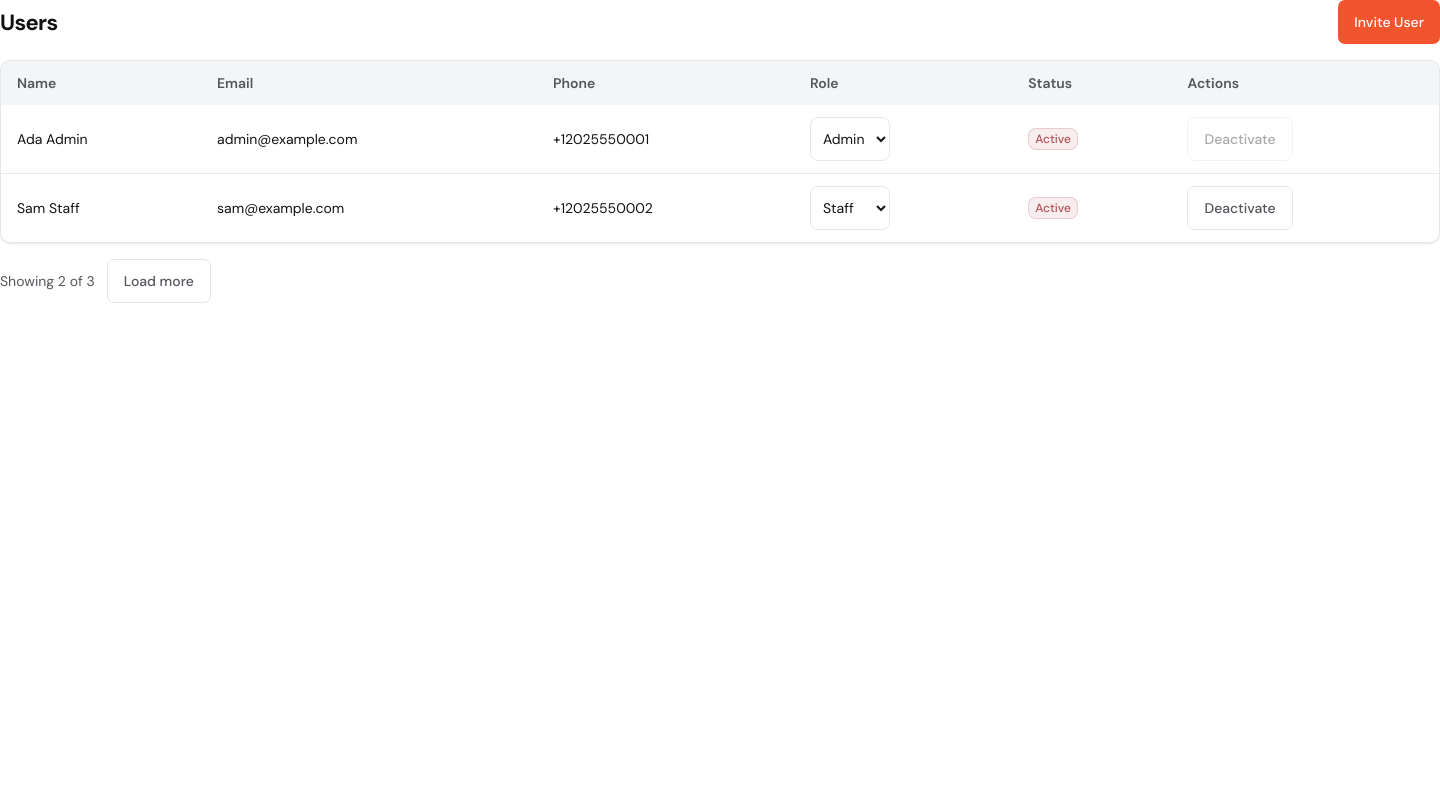
it: Users — paging › keeps the next page window where the server left it after an invite
Click the button "Invite User": (1389, 22) [1338,0,1439,44]
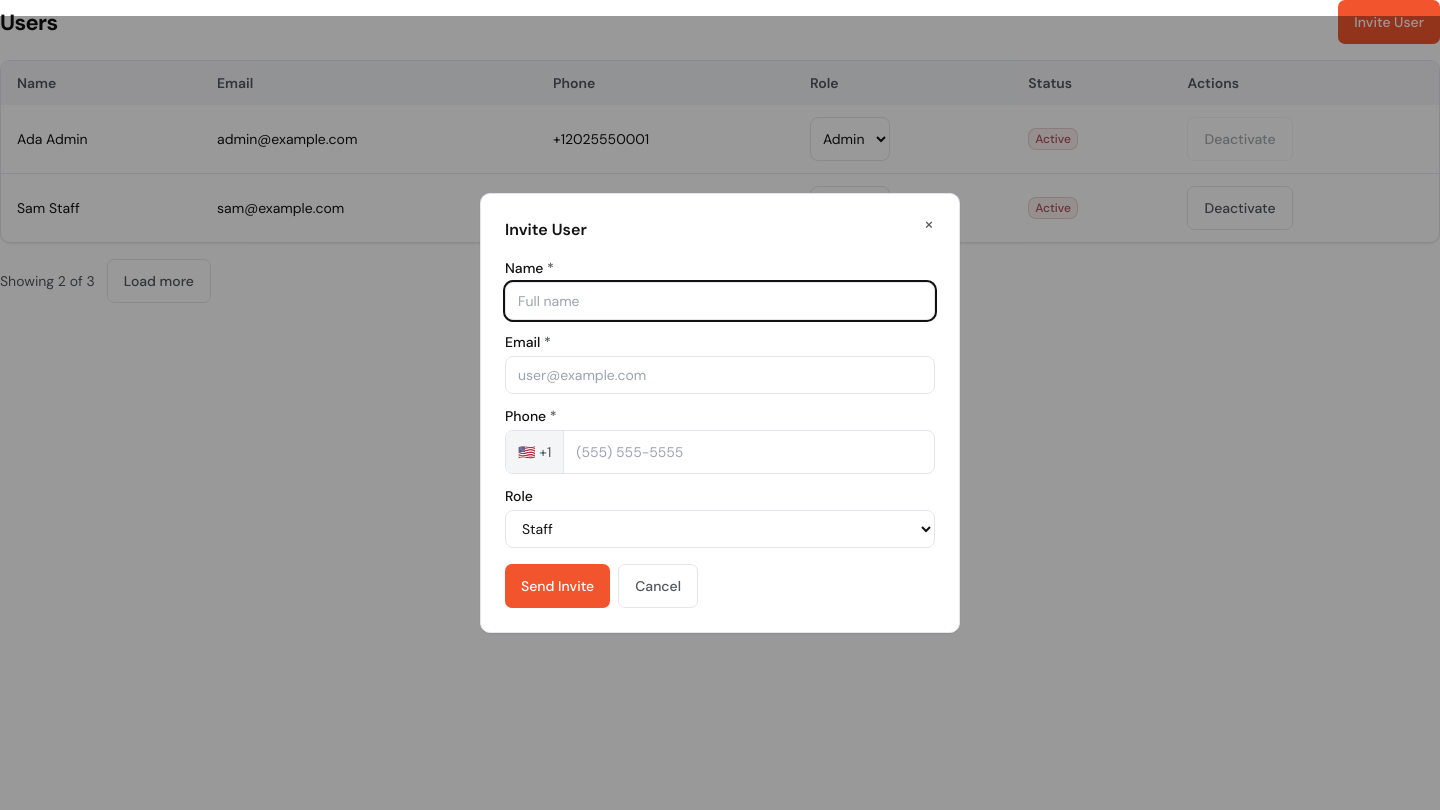
In the field with placeholder "Full name": (720, 301) [505,282,935,320], type "Nia New"
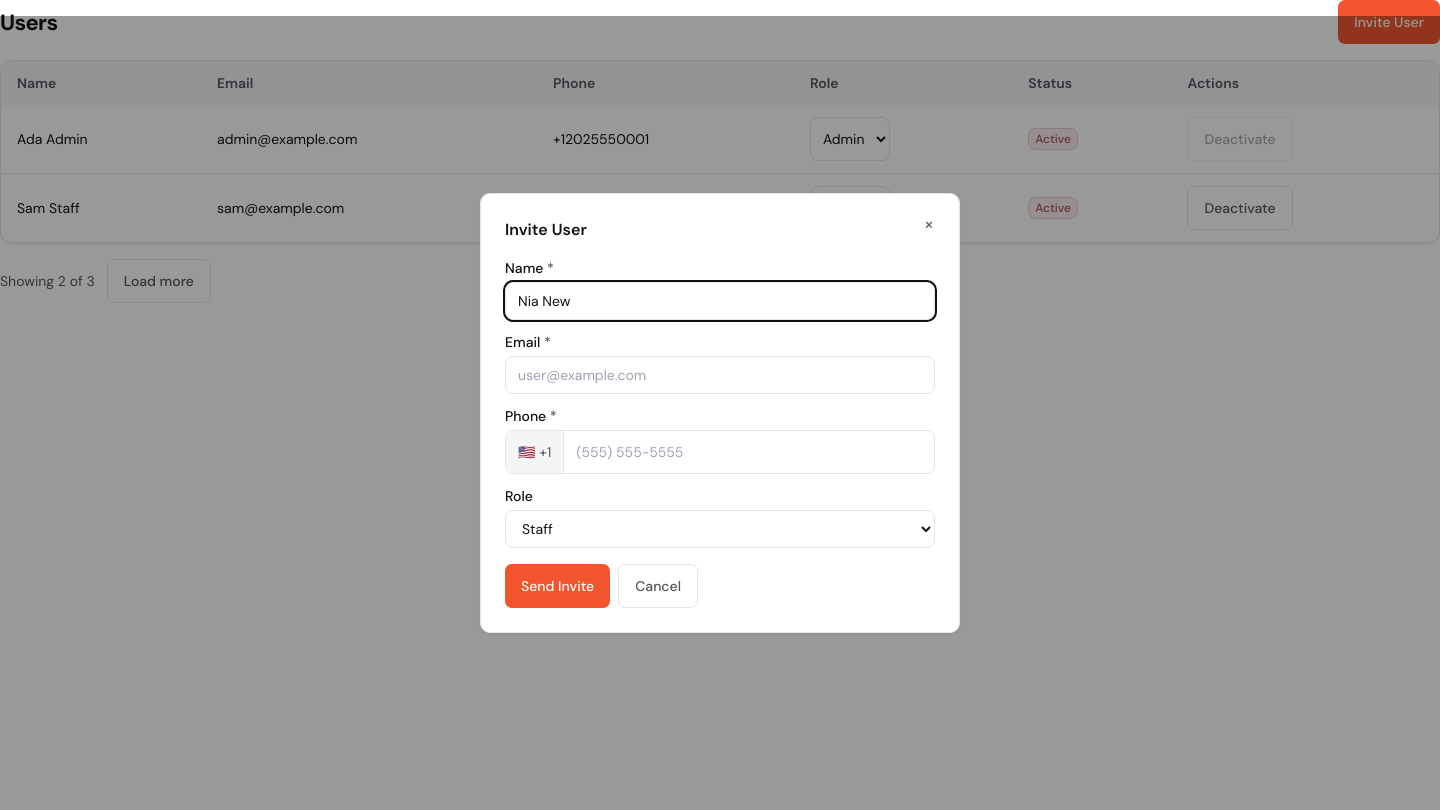
In the field with placeholder "user@example.com": (720, 375) [505,356,935,394], type "nia@example.com"
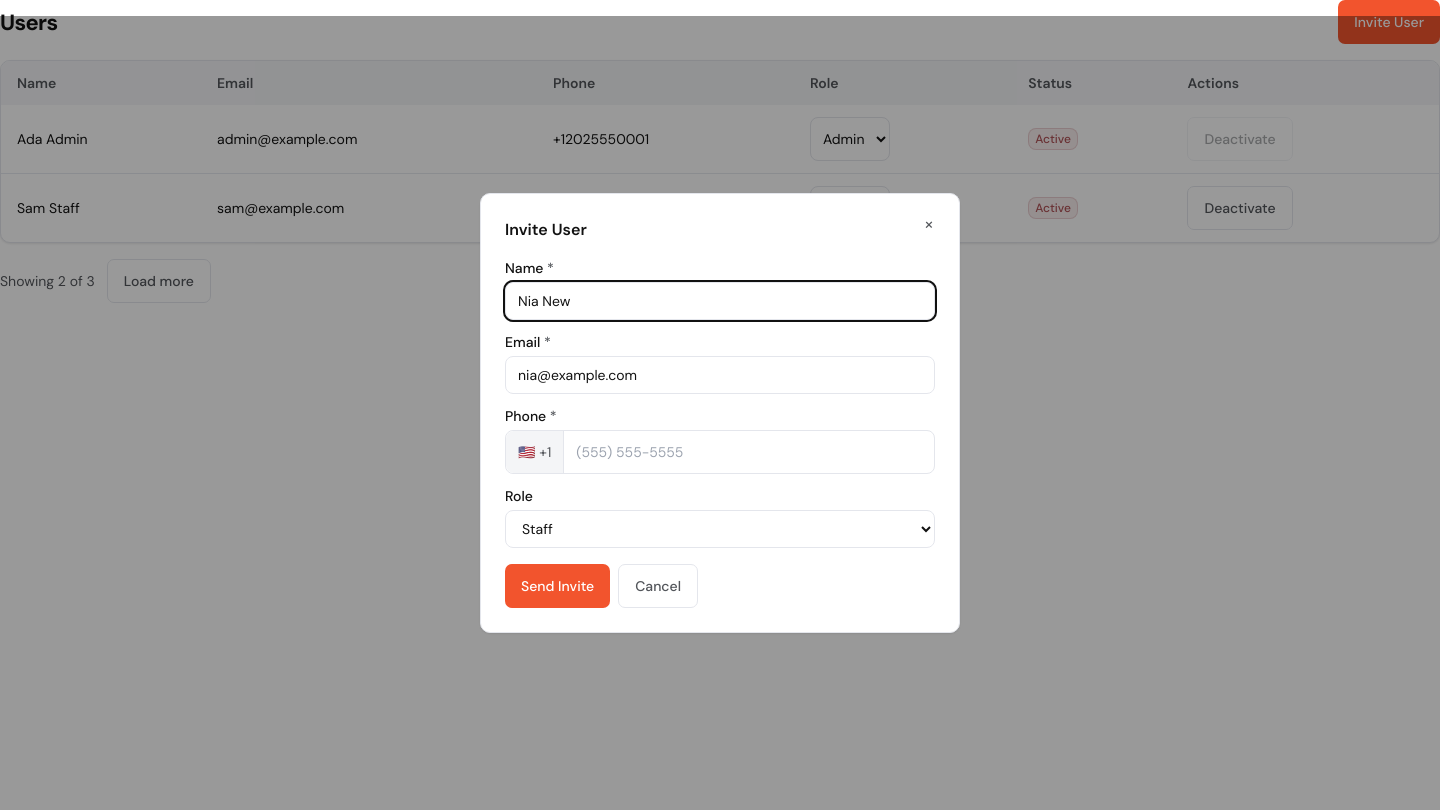
In the field with placeholder "(555) 555-5555": (749, 452) [564,431,934,473], type "2025550009"
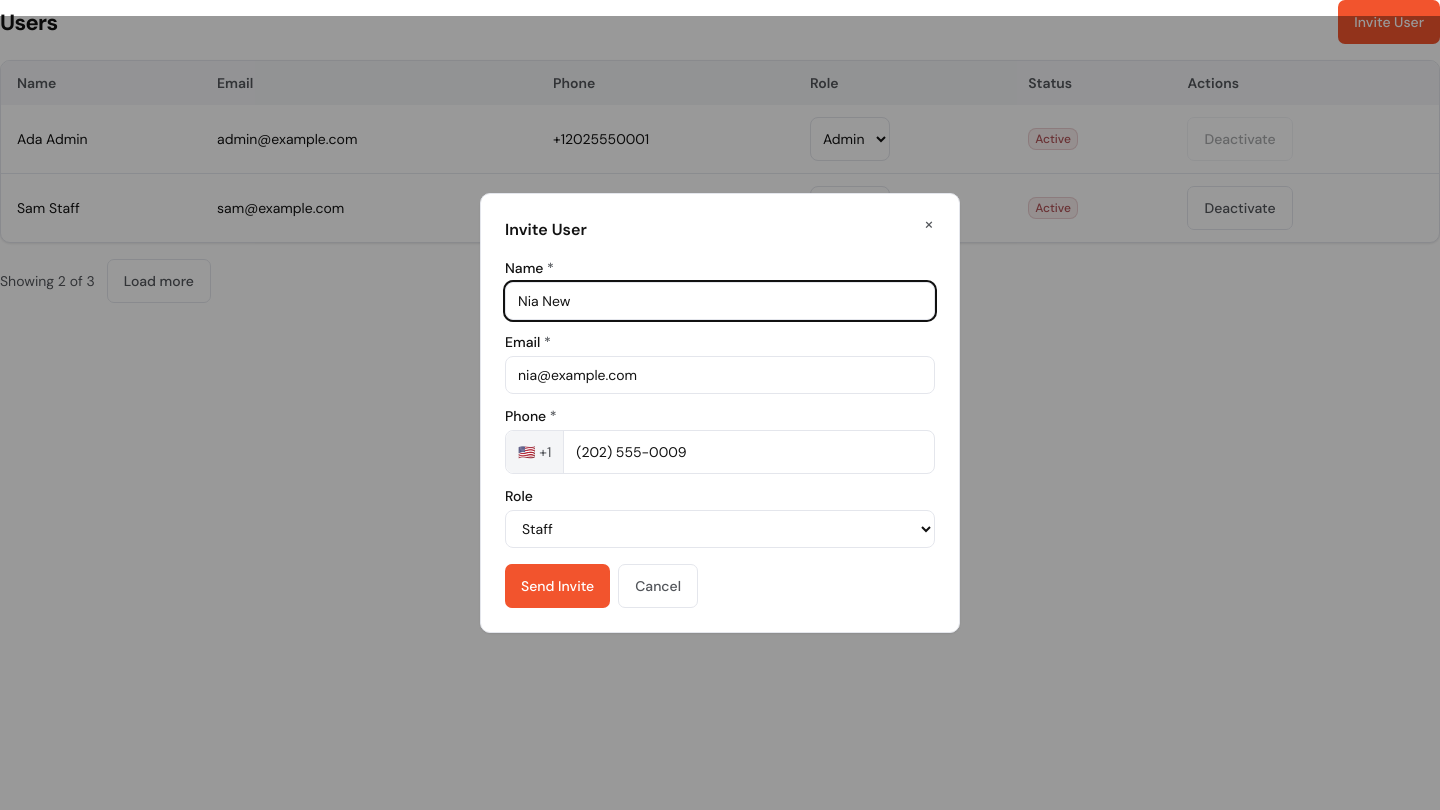
Click the button "Send Invite": (558, 586) [505,564,610,608]
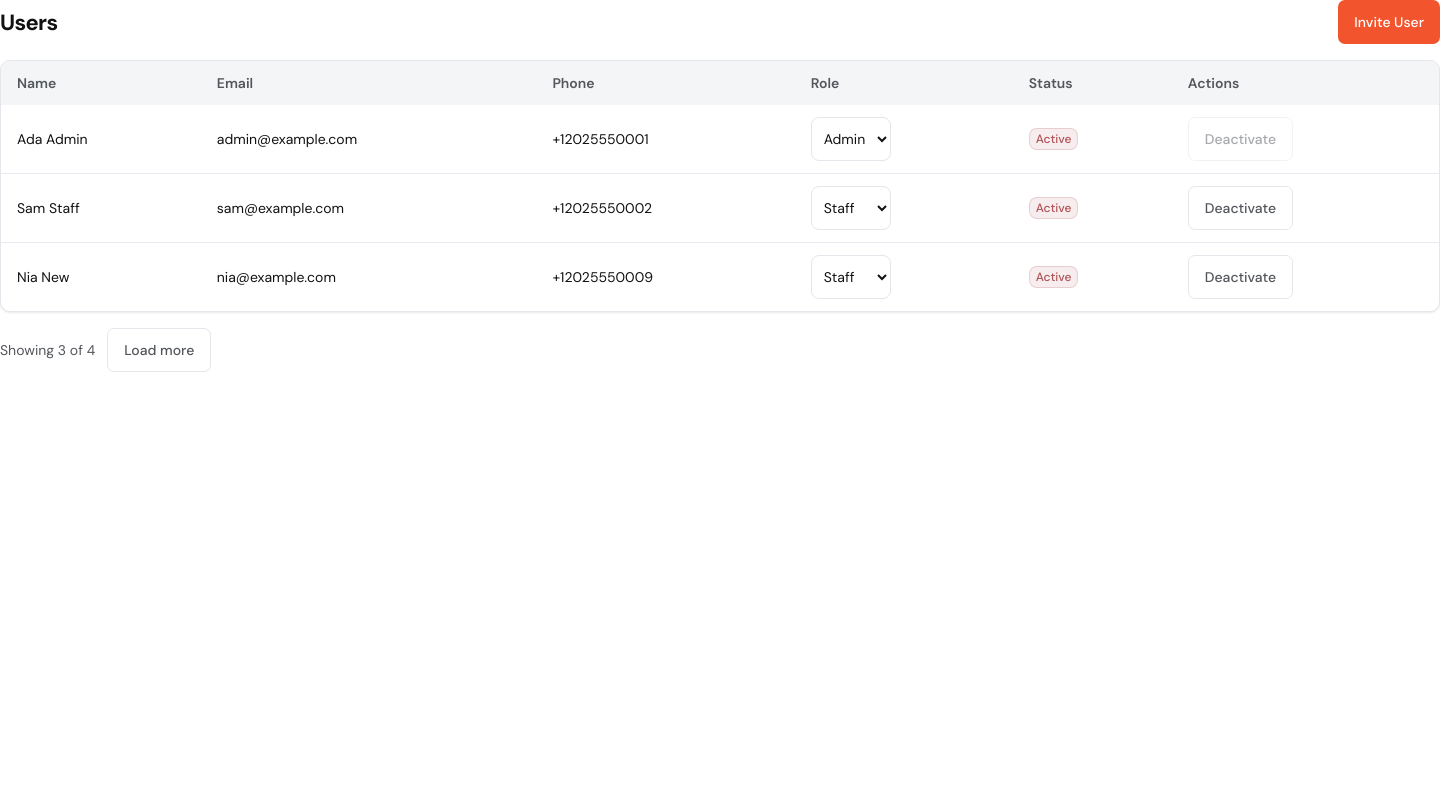
Check: the text "Nia New" is shown, box [1,242,201,311]
Check: the text "Showing 3 of 4" is shown, box [0,340,95,360]
Click the button "Load more": (159, 350) [107,328,211,372]
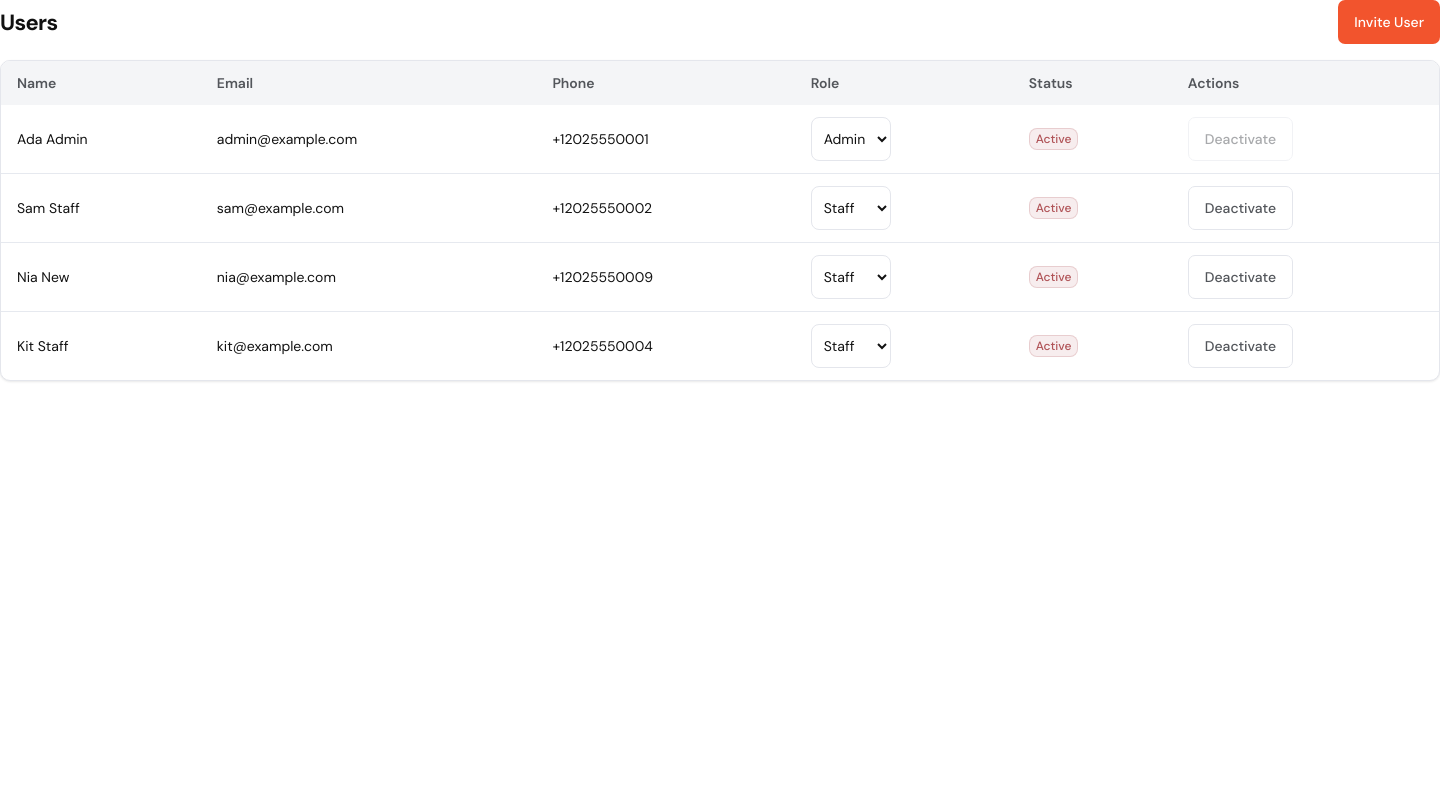
Check: the text "Kit Staff" is shown, box [1,312,201,380]
Check: the text "Nia New" is shown once, box [1,242,201,312]
